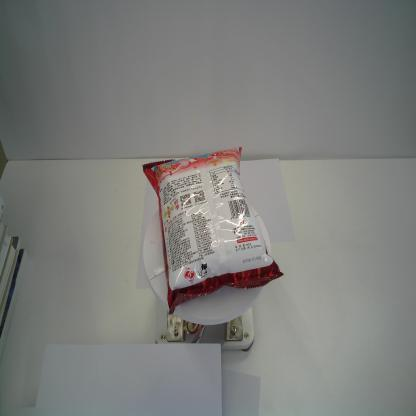Puffed Food: (142, 146, 285, 316)
